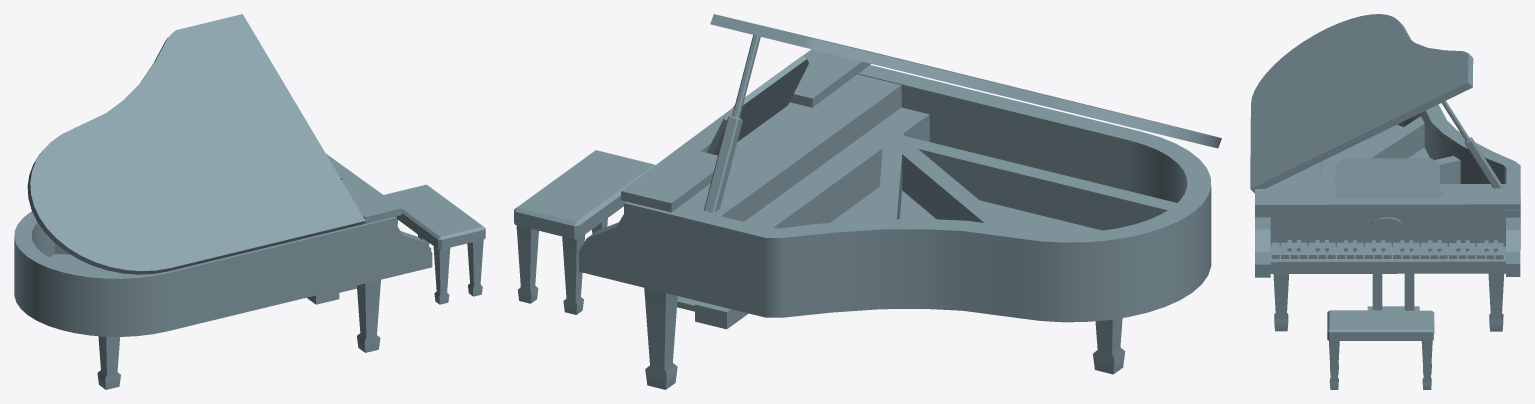
Rendered from Piano.fbx.
3 renders of one model, left to right at view 1: azimuth 30°, elevation 25°; view 2: azimuth 150°, elevation 25°; view 3: azimuth 270°, elevation 25°, orthographic. The views are drawn at different scales.
Parts seen in each view (by area): view 1: Piano, Piano_Stool; view 2: Piano, Piano_Stool; view 3: Piano, Piano_Stool.
Boxes of the visible parts, x1,y1,x2,y2 form: Piano: [14, 14, 432, 389]; Piano_Stool: [384, 184, 485, 304]; Piano: [579, 14, 1221, 389]; Piano_Stool: [514, 150, 655, 314]; Piano: [1250, 14, 1520, 331]; Piano_Stool: [1327, 310, 1434, 389].
Size of the model in its own units: 239 by 135 by 140.
